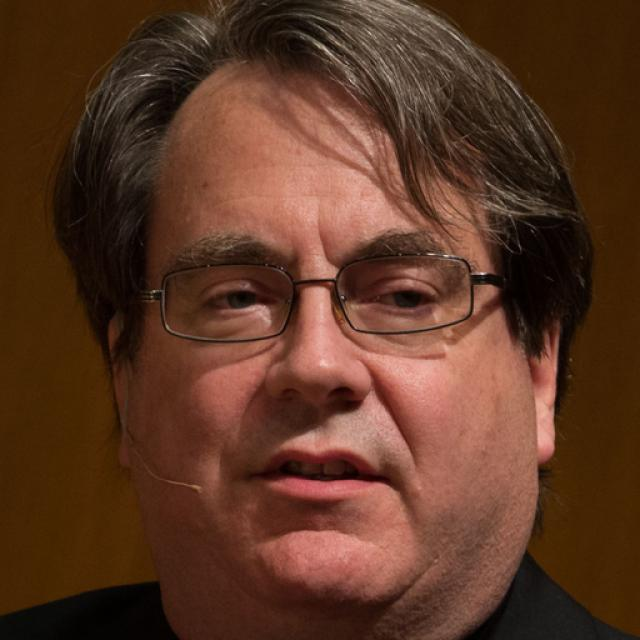Acne: (408, 479, 426, 500)
Wrinkle: (370, 364, 417, 468), (207, 185, 334, 213), (313, 210, 338, 262)
